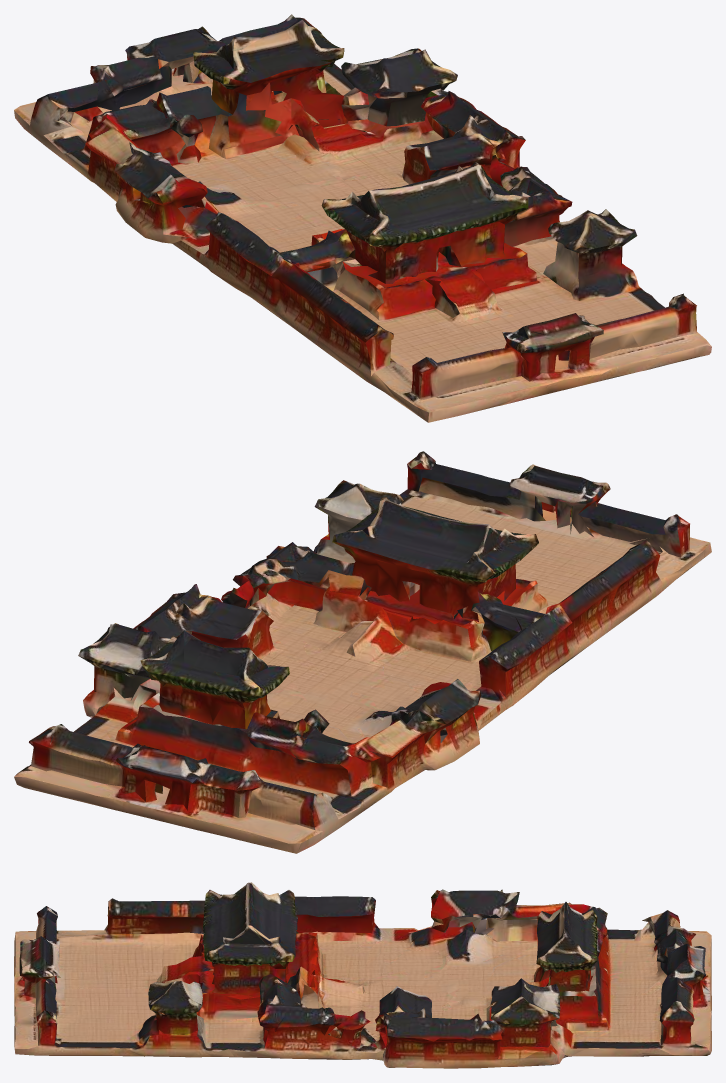
The model's file is changdeokgung.glb.
3 renders of one model, top to bottom at view 1: azimuth 30°, elevation 25°; view 2: azimuth 150°, elevation 25°; view 3: azimuth 270°, elevation 25°, orthographic. The views are drawn at different scales.
Visible parts, largest first — view 1: logan-textured.obj; view 2: logan-textured.obj; view 3: logan-textured.obj.
Boxes of the visible parts, left/top/right/bottom form: logan-textured.obj: left=14, top=14, right=711, bottom=422; logan-textured.obj: left=14, top=451, right=711, bottom=853; logan-textured.obj: left=14, top=882, right=711, bottom=1068.
Bounding box in the file's own units: 0.4777 × 0.15 × 1.
Materials: 1 (1 with a texture image).
